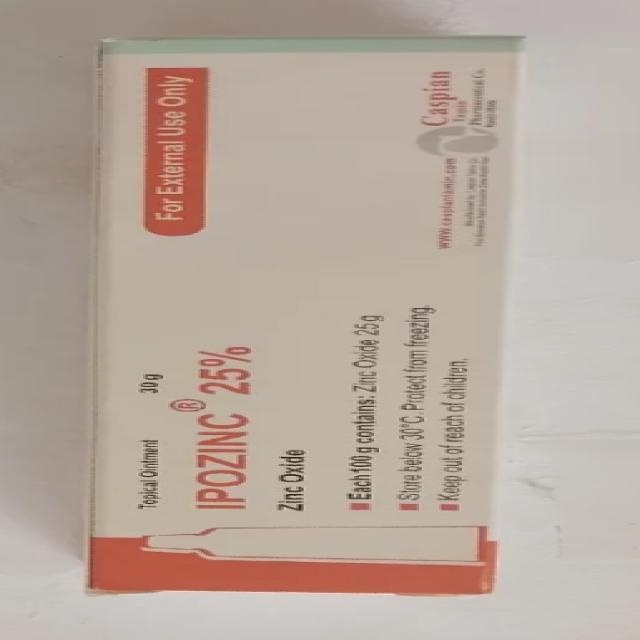drug-name: (196, 340, 254, 512)
